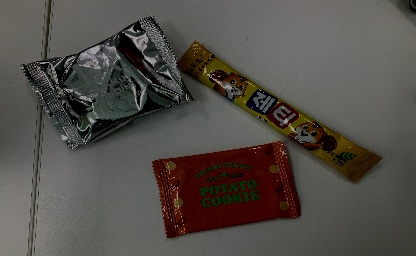br: (19, 13, 195, 153)
jt: (173, 37, 384, 189)
pota: (149, 138, 305, 240)
